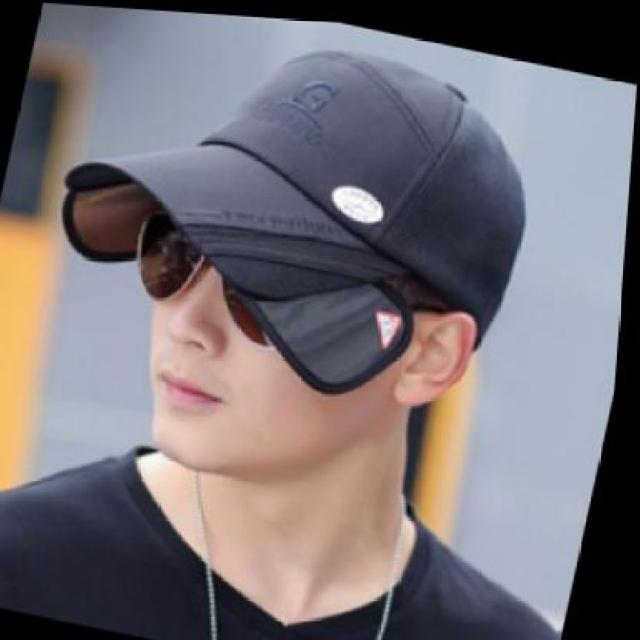hat: (31, 3, 563, 429)
